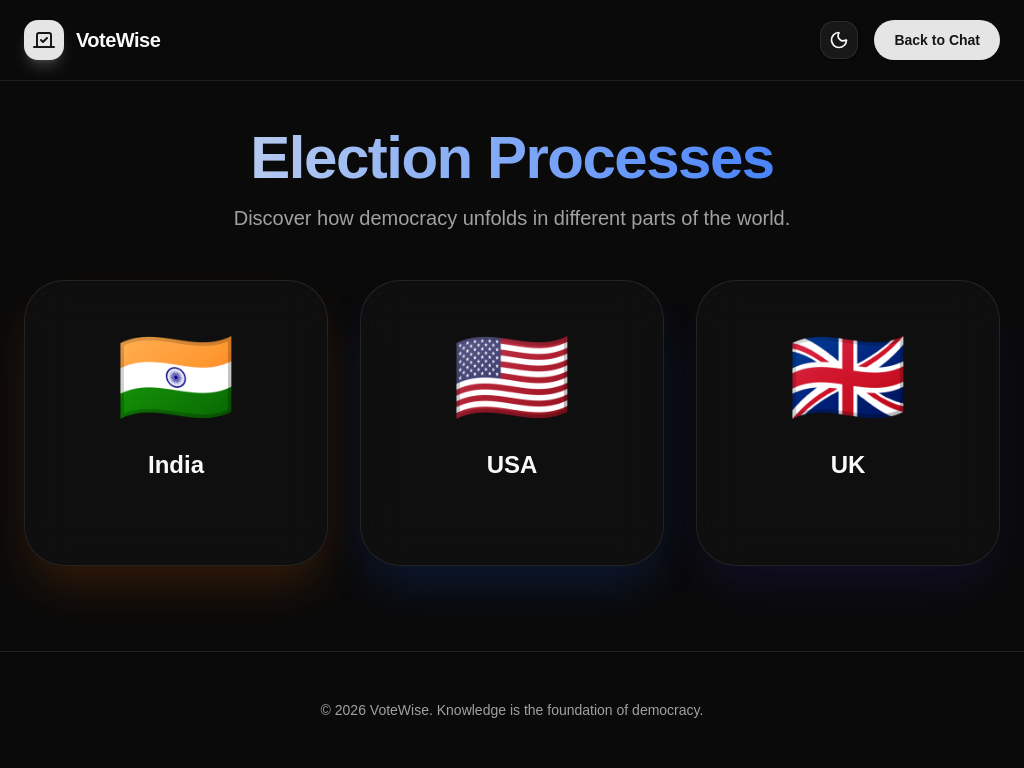
Scenario: ProcessPage › can go back to country selection
Click the button "🇬🇧 UK" at (848, 423), box [696,280,1000,566]
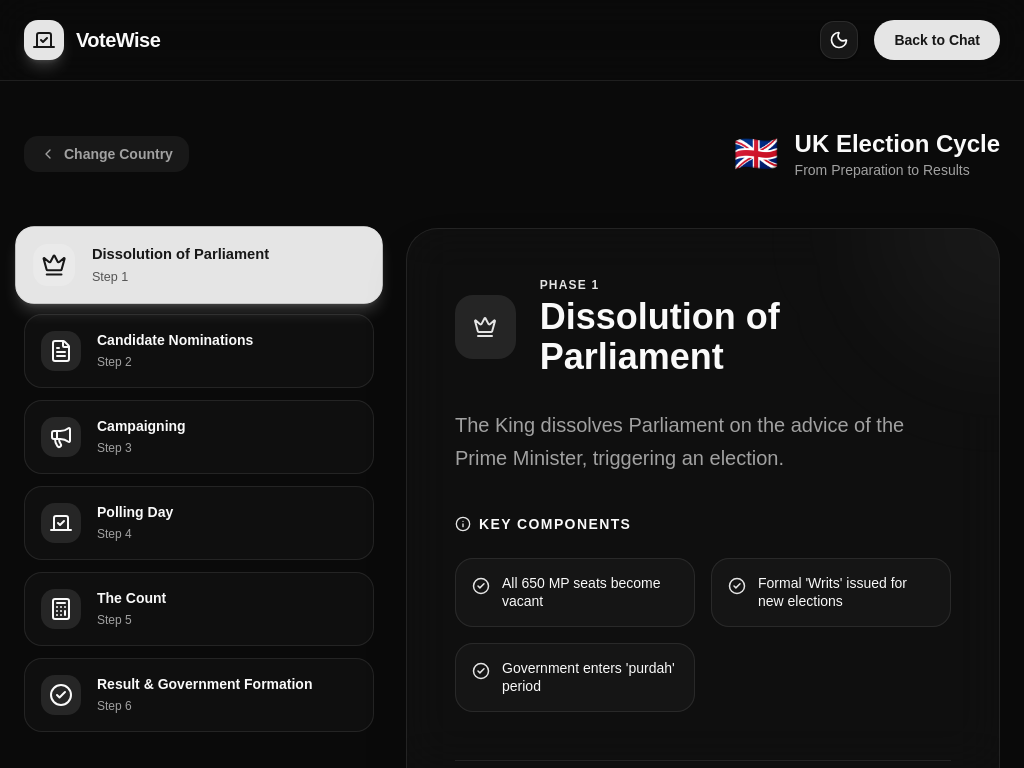
Click the button "Change Country" at (106, 154), box [24,136,189,172]
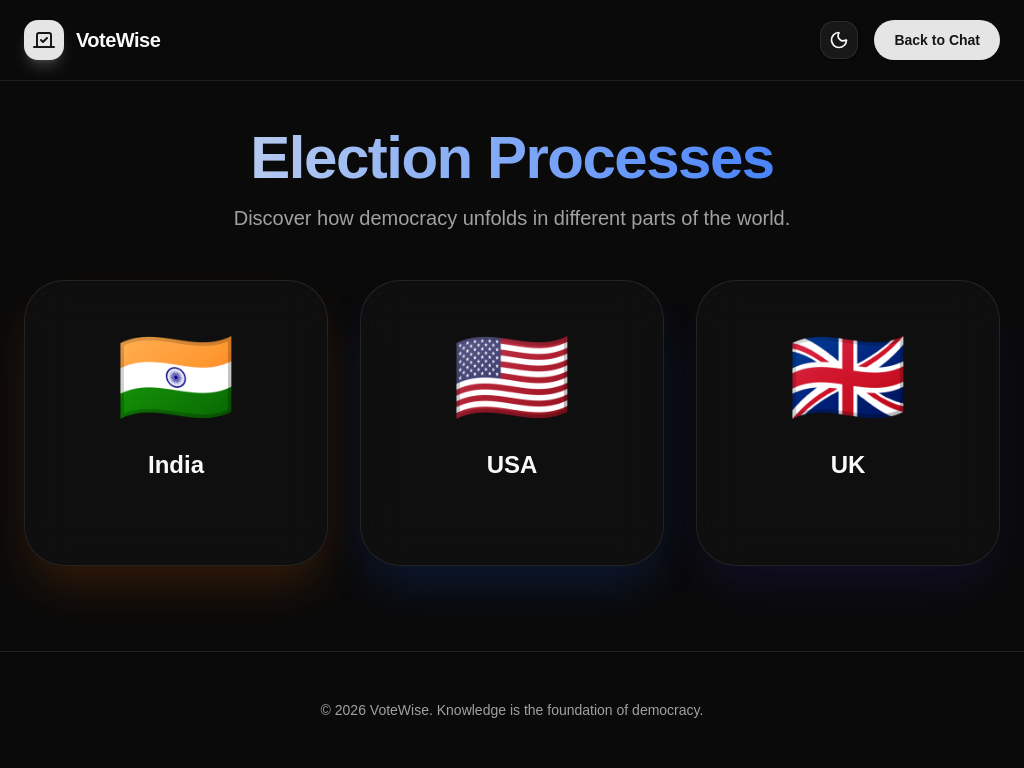
Result: the heading "Election Processes" is shown at [24,128,1000,188]
